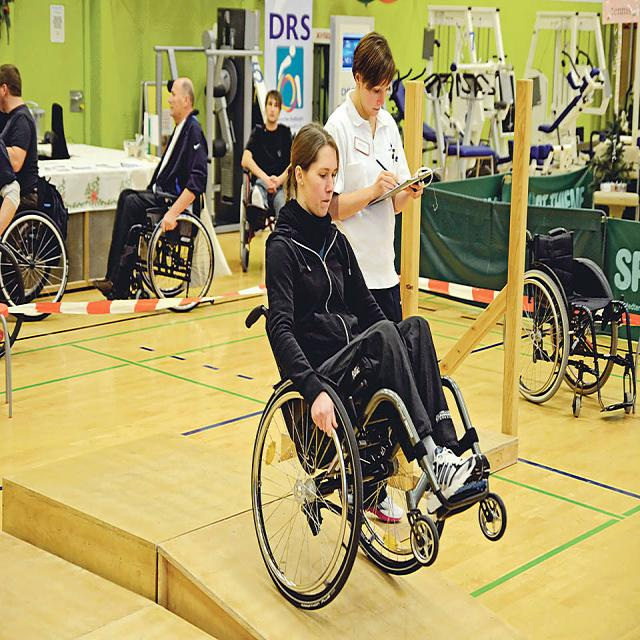wheelchairs: (242, 299, 512, 606), (512, 204, 638, 433), (96, 152, 220, 318), (0, 164, 73, 330), (239, 152, 294, 282), (0, 230, 33, 357)
